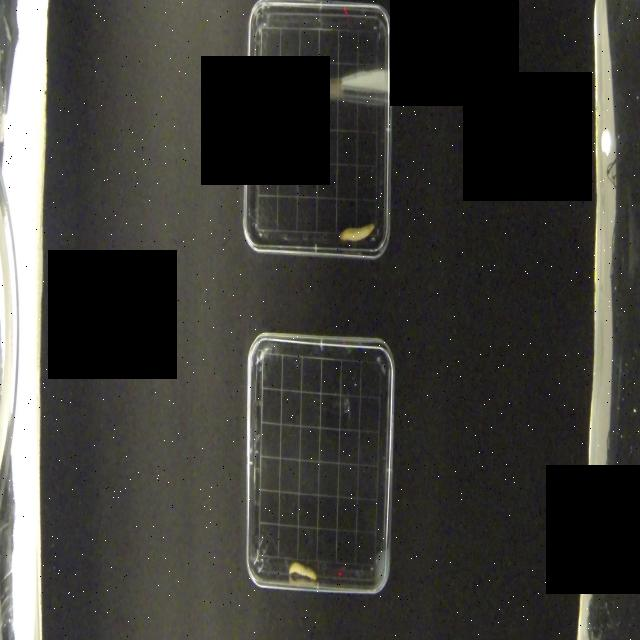larva: (339, 220, 376, 244), (288, 559, 318, 582)
